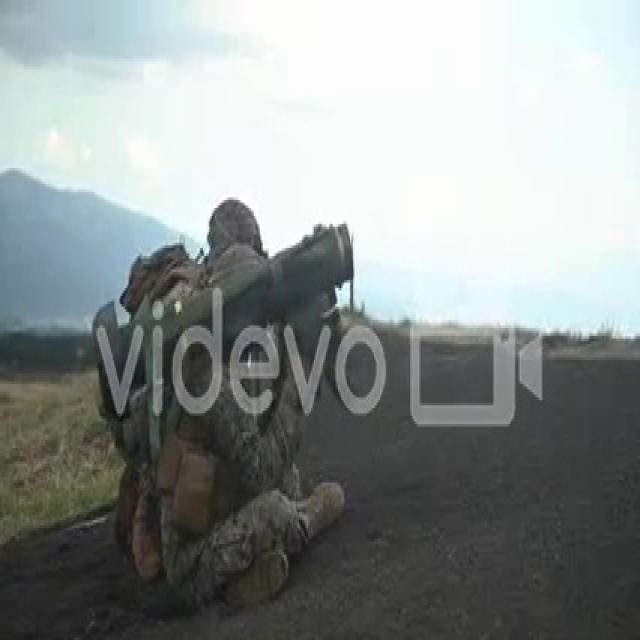bazooka: (97, 210, 361, 429)
